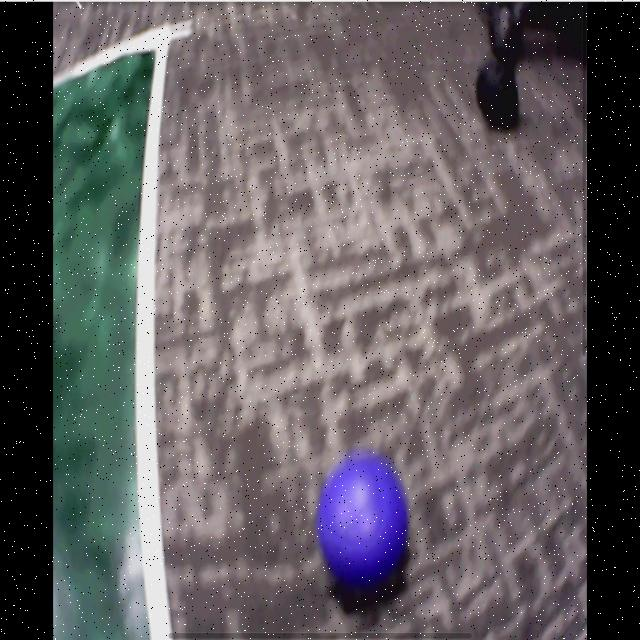ball: (319, 457, 409, 592)
